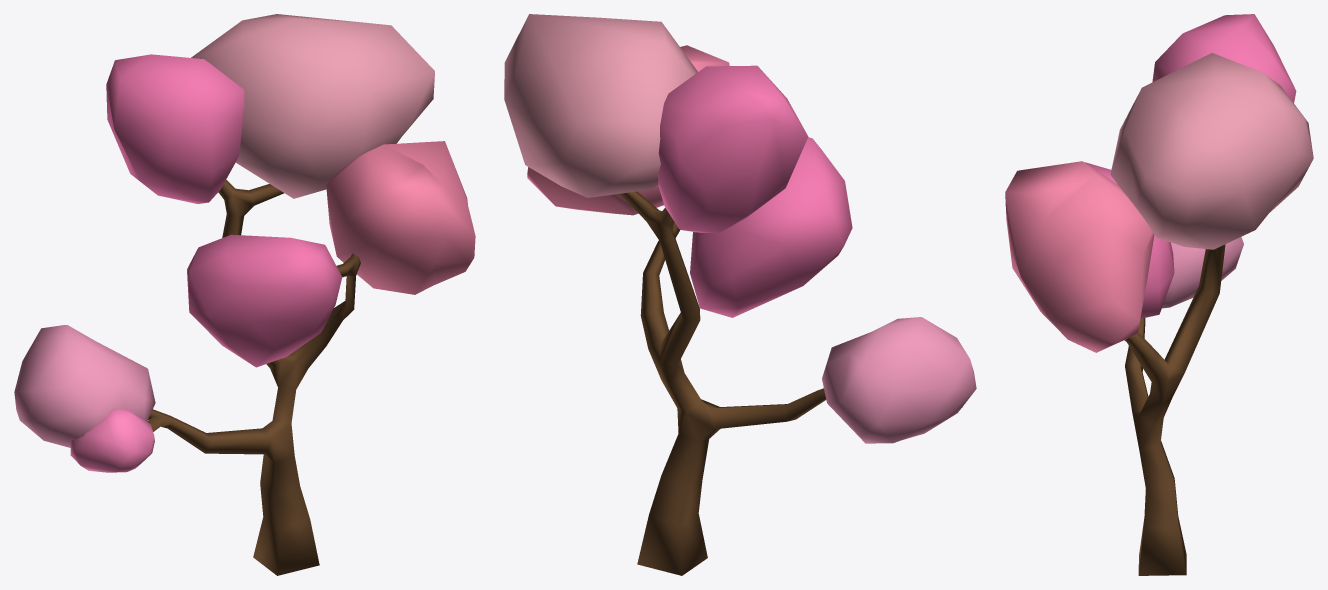
The model's file is Sakura_1.fbx.
3 renders of one model, left to right at view 1: azimuth 30°, elevation 25°; view 2: azimuth 150°, elevation 25°; view 3: azimuth 270°, elevation 25°, orthographic. The views are drawn at different scales.
Visible parts, largest first — view 1: Tree5_Leave6, Tree5_Leave3, Tree5_Leave5, Tree5_Leave4, Tree5, Tree5_Leave1, Tree5_Leave2; view 2: Tree5_Leave6, Tree5_Leave5, Tree5, Tree5_Leave4, Tree5_Leave1, Tree5_Leave3; view 3: Tree5_Leave6, Tree5_Leave3, Tree5, Tree5_Leave5, Tree5_Leave1, Tree5_Leave4.
Boxes of the visible parts, <box> form: Tree5_Leave6: <box>191,14,434,198</box>; Tree5_Leave3: <box>326,141,475,294</box>; Tree5_Leave5: <box>106,54,244,203</box>; Tree5_Leave4: <box>187,234,342,367</box>; Tree5: <box>147,179,360,575</box>; Tree5_Leave1: <box>14,325,155,447</box>; Tree5_Leave2: <box>70,408,154,472</box>; Tree5_Leave6: <box>504,14,697,197</box>; Tree5_Leave5: <box>657,65,808,232</box>; Tree5: <box>619,191,826,575</box>; Tree5_Leave4: <box>690,137,852,317</box>; Tree5_Leave1: <box>822,317,976,443</box>; Tree5_Leave3: <box>527,45,729,215</box>; Tree5_Leave6: <box>1110,53,1313,249</box>; Tree5_Leave3: <box>1005,161,1154,352</box>; Tree5: <box>1124,244,1225,575</box>; Tree5_Leave5: <box>1152,14,1296,102</box>; Tree5_Leave1: <box>1162,237,1243,308</box>; Tree5_Leave4: <box>1085,162,1174,318</box>.
Bounding box in the file's own units: 513 × 583 × 322.
